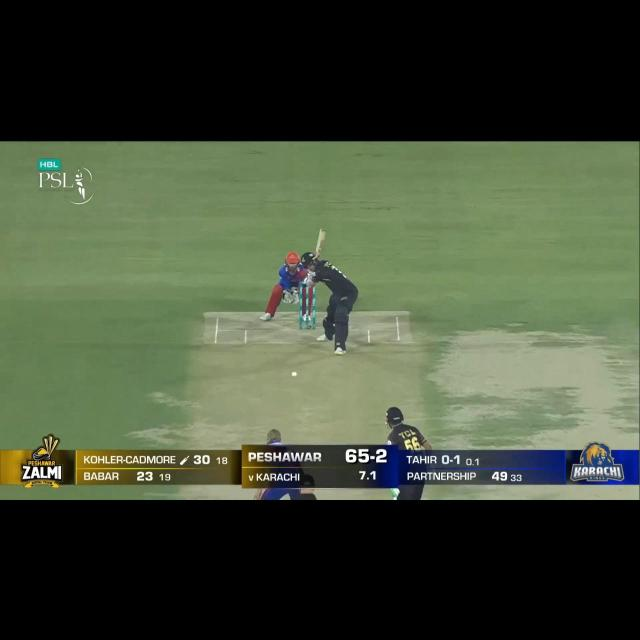bat: (312, 228, 330, 260)
toe: (318, 228, 329, 234)
